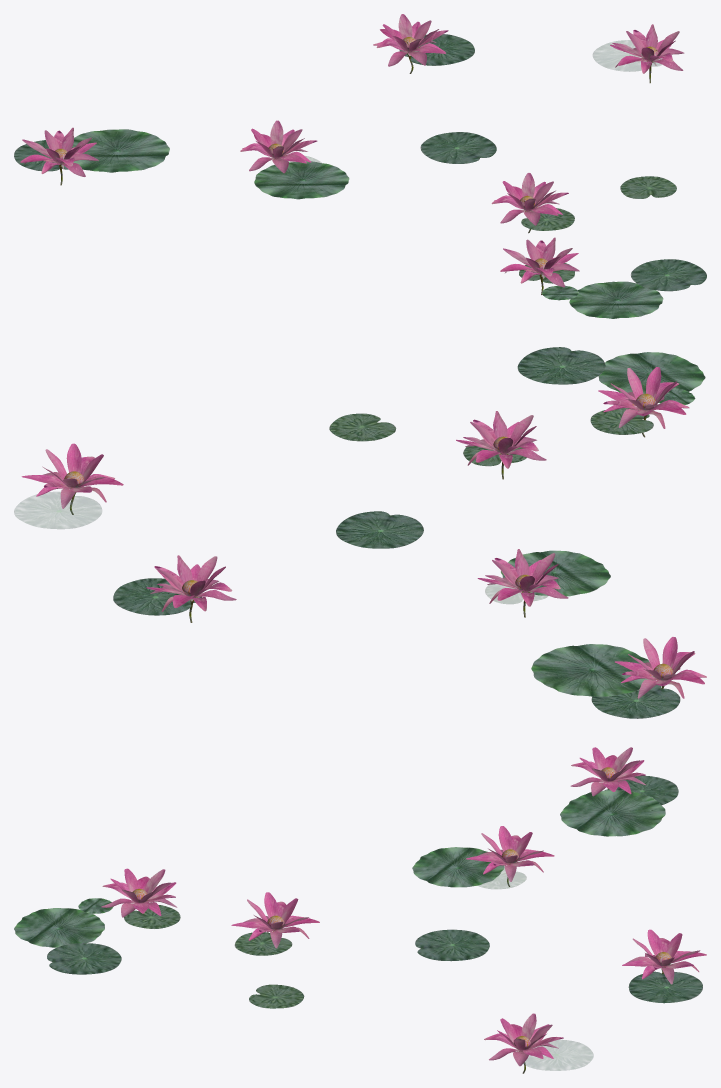
The model's file is lotus.glb.
3 renders of one model, top to bottom at view 1: azimuth 30°, elevation 25°; view 2: azimuth 150°, elevation 25°; view 3: azimuth 270°, elevation 25°, orthographic. The views are drawn at different scales.
Parts seen in each view (by area): view 1: 12_Pcs_Lotus_Leaves_High_Quality_Durable_Prime_Sturdy_Lotus. (×11), 12_Pcs_Lotus_Leaves_High_Quality_Durable_Prime_Sturdy_Lotus_; view 2: 12_Pcs_Lotus_Leaves_High_Quality_Durable_Prime_Sturdy_Lotus. (×11), 12_Pcs_Lotus_Leaves_High_Quality_Durable_Prime_Sturdy_Lotus_; view 3: 12_Pcs_Lotus_Leaves_High_Quality_Durable_Prime_Sturdy_Lotus. (×11), 12_Pcs_Lotus_Leaves_High_Quality_Durable_Prime_Sturdy_Lotus_.
Boxes of the visible parts, <box> form: 12_Pcs_Lotus_Leaves_High_Quality_Durable_Prime_Sturdy_Lotus. (×11): <box>14,14,706,294</box>; 12_Pcs_Lotus_Leaves_High_Quality_Durable_Prime_Sturdy_Lotus_: <box>569,281,663,318</box>; 12_Pcs_Lotus_Leaves_High_Quality_Durable_Prime_Sturdy_Lotus. (×11): <box>14,347,706,718</box>; 12_Pcs_Lotus_Leaves_High_Quality_Durable_Prime_Sturdy_Lotus_: <box>598,352,705,393</box>; 12_Pcs_Lotus_Leaves_High_Quality_Durable_Prime_Sturdy_Lotus. (×11): <box>47,747,706,1073</box>; 12_Pcs_Lotus_Leaves_High_Quality_Durable_Prime_Sturdy_Lotus_: <box>14,908,104,947</box>.
Size of the model in its own units: 1.87 by 0.1399 by 1.8.
Materials: 3 (3 with a texture image).
